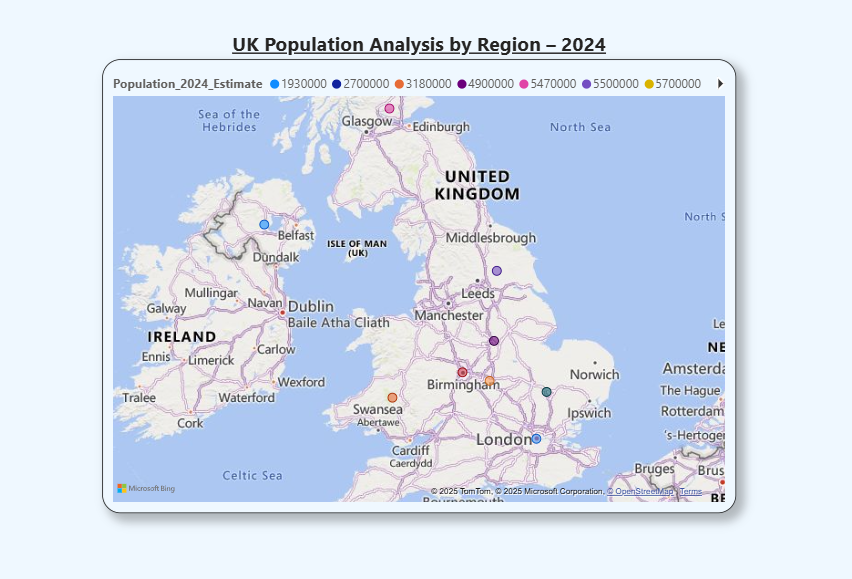

The page's visual inventory and layout, read from the dashboard file:
{"tool":"powerbi","page":{"name":"Map Formatting","canvas":[1280,720],"ordinal":10},"visuals":[{"type":"map","fields":{"Category":["Orders.State"],"Size":["Sum(Orders.Profit)"]},"box":[264.8,112.5,771,515],"z":0}]}

Visuals, with their boxes on the page's 1280x720 design canvas (x1, y1, x2, y2). These are canvas units, not pixel positions in the 852x579 screenshot, which may show the page scaled, cropped or inside an application window:
map - Orders.State x Sum(Orders.Profit): bbox=[265, 112, 1036, 628]
